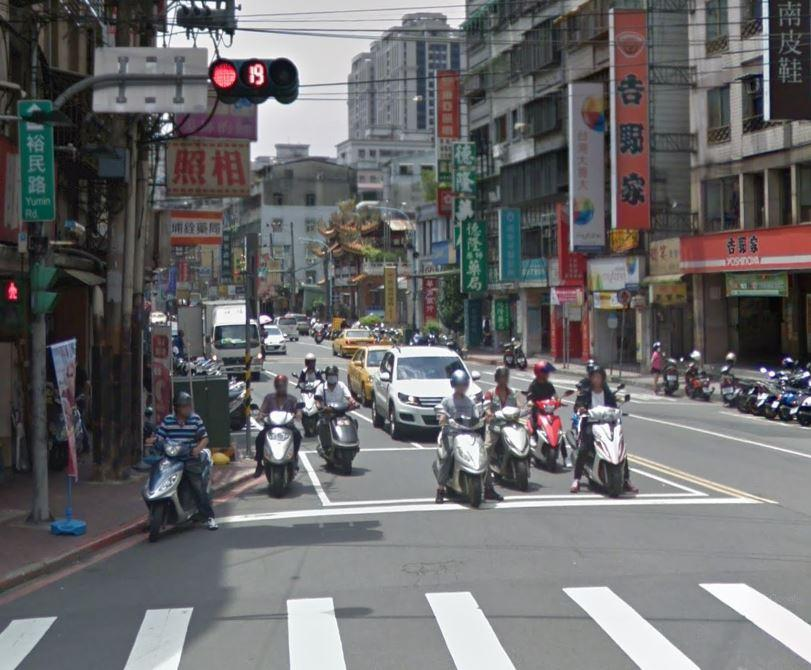car: (355, 336, 488, 446)
motorcycle: (140, 420, 212, 544), (568, 390, 633, 495), (433, 402, 494, 509), (313, 359, 367, 473), (245, 400, 303, 495)
red_traffic_light: (207, 56, 300, 96)
truck: (170, 297, 267, 380)
